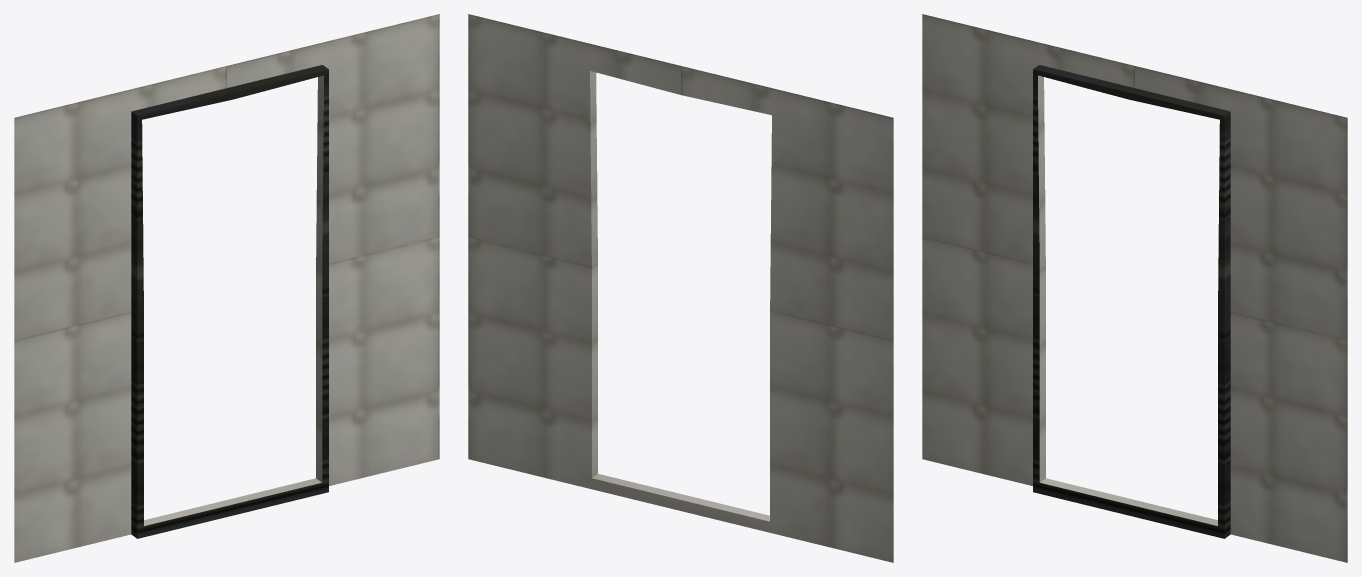
The model's file is wall_padded_doorway.fbx.
The picture shows the model from 3 angles, left to right: view 1: azimuth 30°, elevation 25°; view 2: azimuth 150°, elevation 25°; view 3: azimuth 330°, elevation 25°; orthographic projection.
Parts seen in each view (by area): view 1: FloorTile.005; view 2: FloorTile.005; view 3: FloorTile.005.
Boxes of the visible parts, x1,y1,x2,y2 form: FloorTile.005: (14,14,439,562); FloorTile.005: (468,14,893,562); FloorTile.005: (922,14,1347,562).
Size of the model in its own units: 400 by 400 by 10.
Materials: 1 (1 with a texture image).
